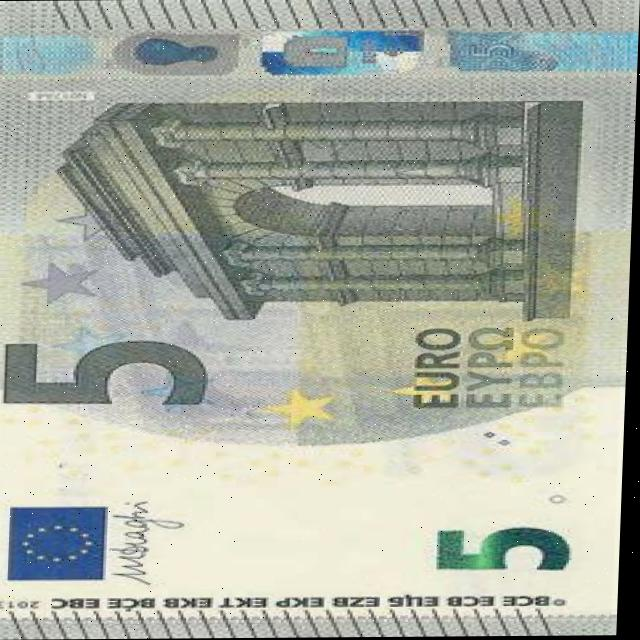banknote: (0, 0, 640, 639), (0, 330, 223, 416), (430, 499, 588, 589), (468, 30, 526, 66)
